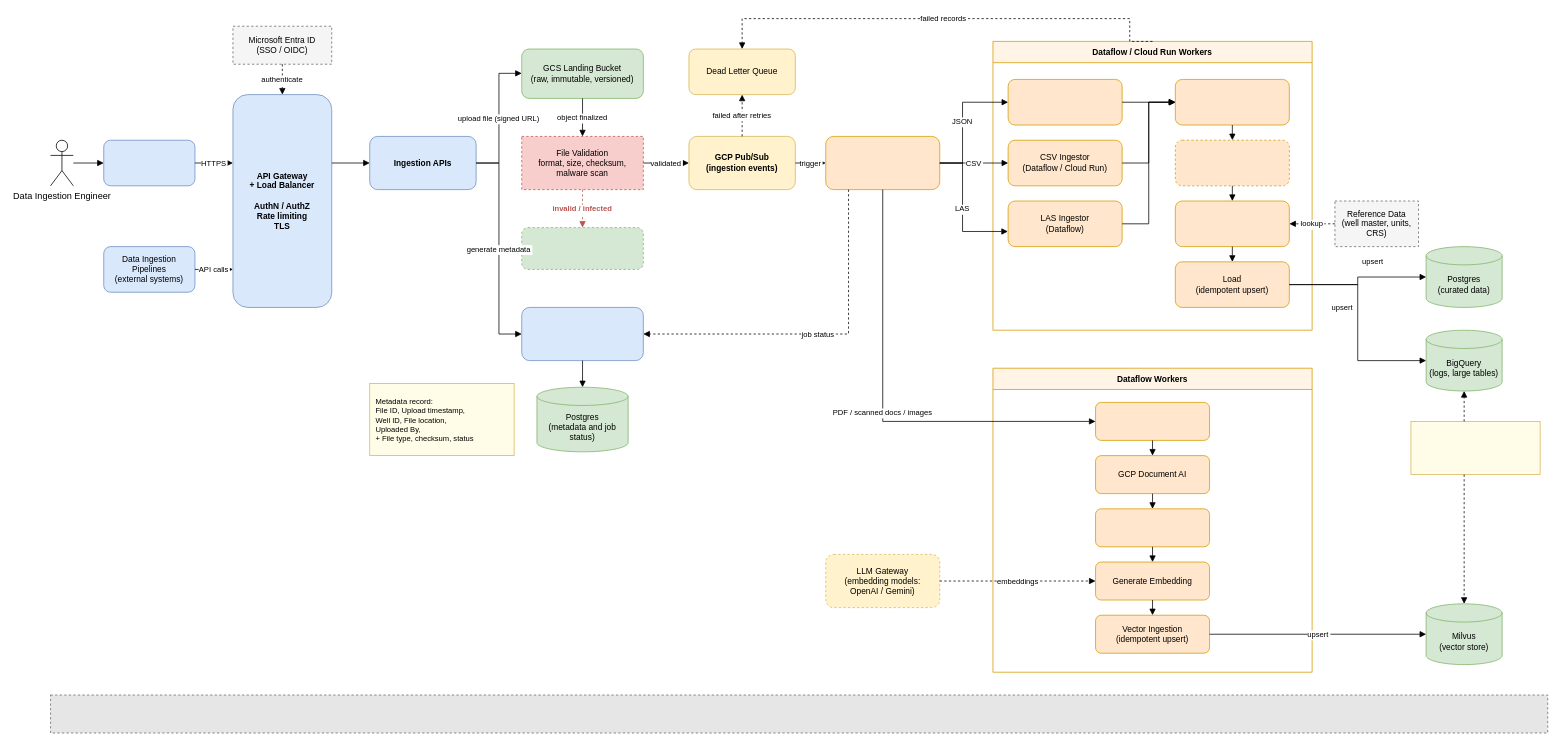
This 1561x746 diagram has some shape labels left out. The shapes that lost their labels are listed below. From the top down, each one's centre as x and y in pixels, then its label:
the point at 1064,102: JSON Ingestor (Dataflow / Cloud Run)
the point at 1232,102: Transform
the point at 149,162: Data Management App UI
the point at 882,163: Ingestion Service invoking Airflow (routes by file type) Cloud Composer
the point at 1232,162: Data Quality Checks (schema, units, ranges)
the point at 1232,223: Enrichment
the point at 582,248: Quarantine Bucket
the point at 582,334: Metadata Service (file and job state)
the point at 1152,421: OCR Ingestion (Dataflow)
the point at 1475,448: Read by Conversational Insights (MCP data servers, read-only)
the point at 1152,527: Chunking
the point at 799,713: Observability and Audit - Grafana, Prometheus, Loki, Thanos, AlertManager
